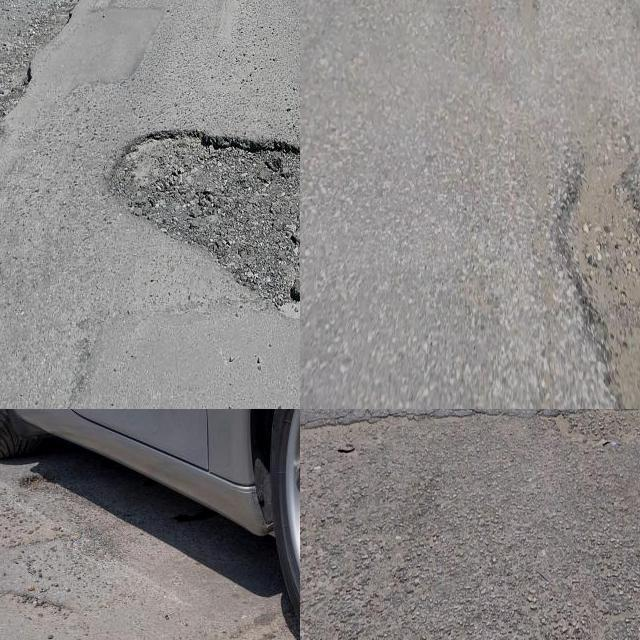Pothole: (112, 127, 300, 318), (553, 138, 640, 409), (516, 0, 542, 21)
